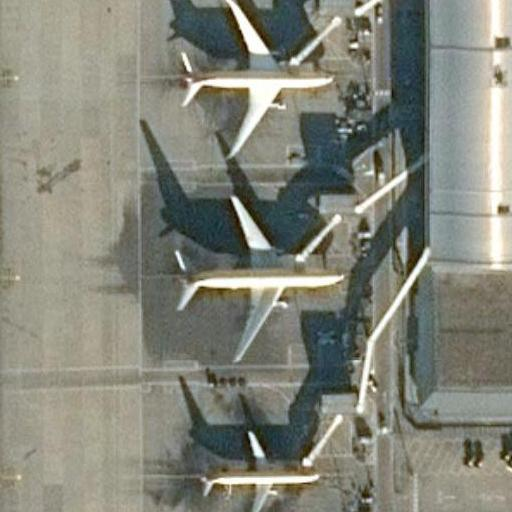Aircraft: (163, 193, 347, 361), (170, 192, 347, 362), (170, 0, 337, 158), (168, 0, 332, 160), (193, 424, 321, 512), (196, 431, 320, 512)
